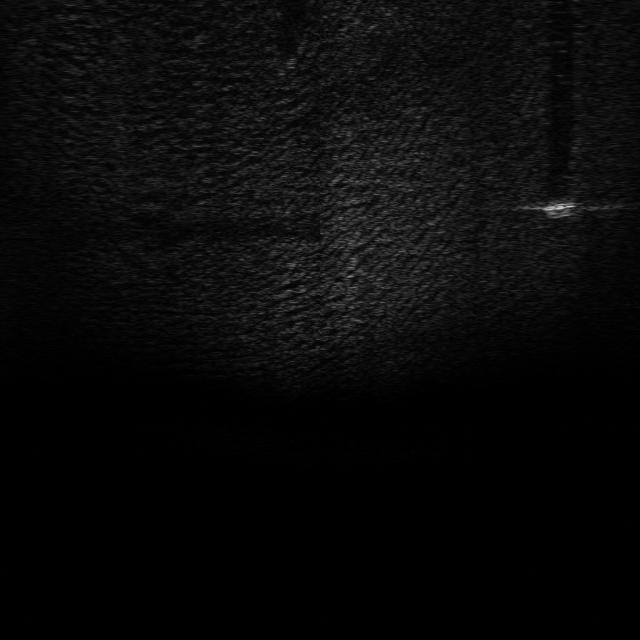cube: (539, 192, 583, 222)
